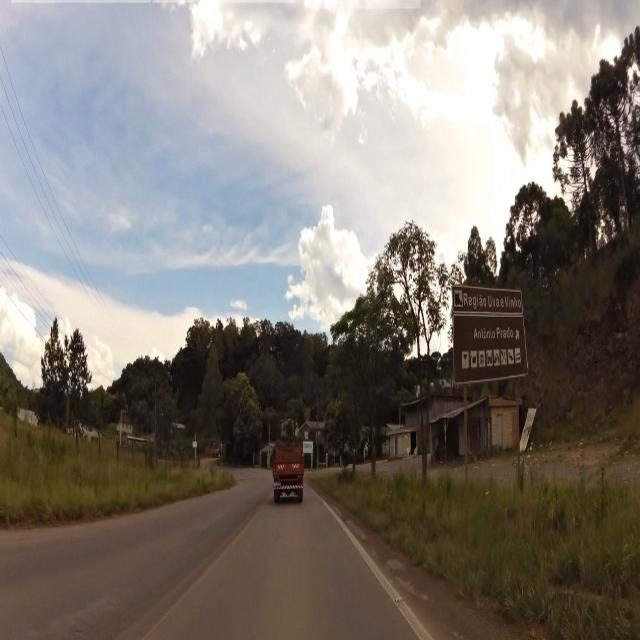TUR-4: (446, 284, 534, 373)
